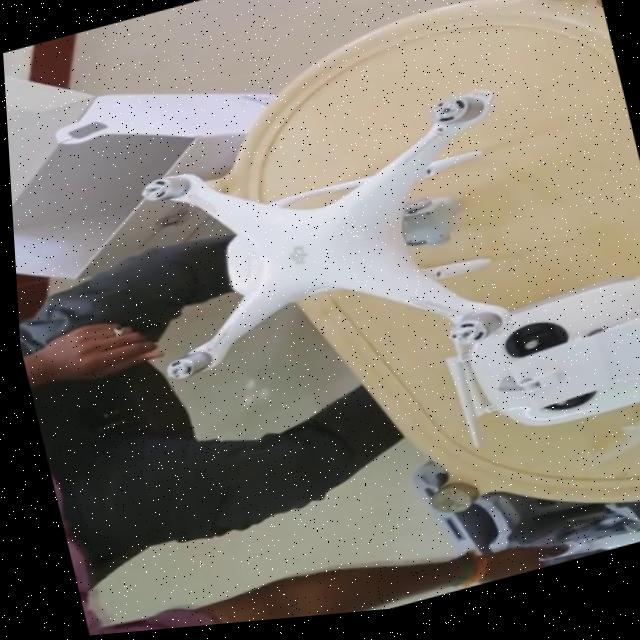drones: (92, 67, 568, 436)
